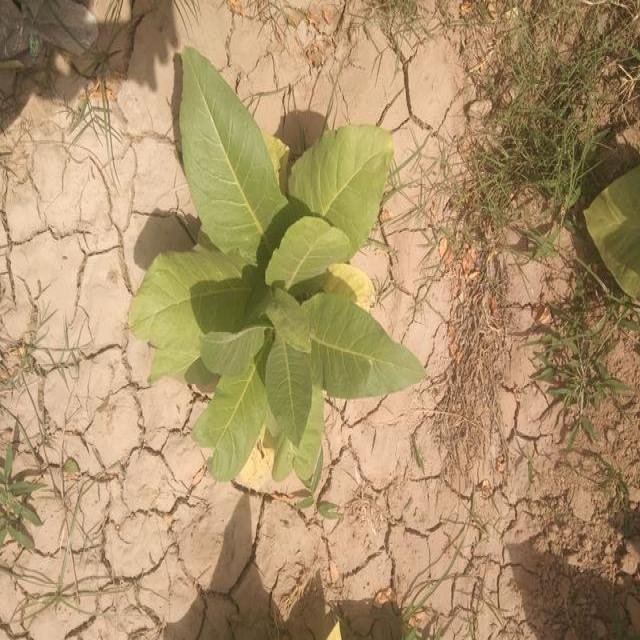crop: (139, 38, 420, 482), (580, 174, 640, 308)
